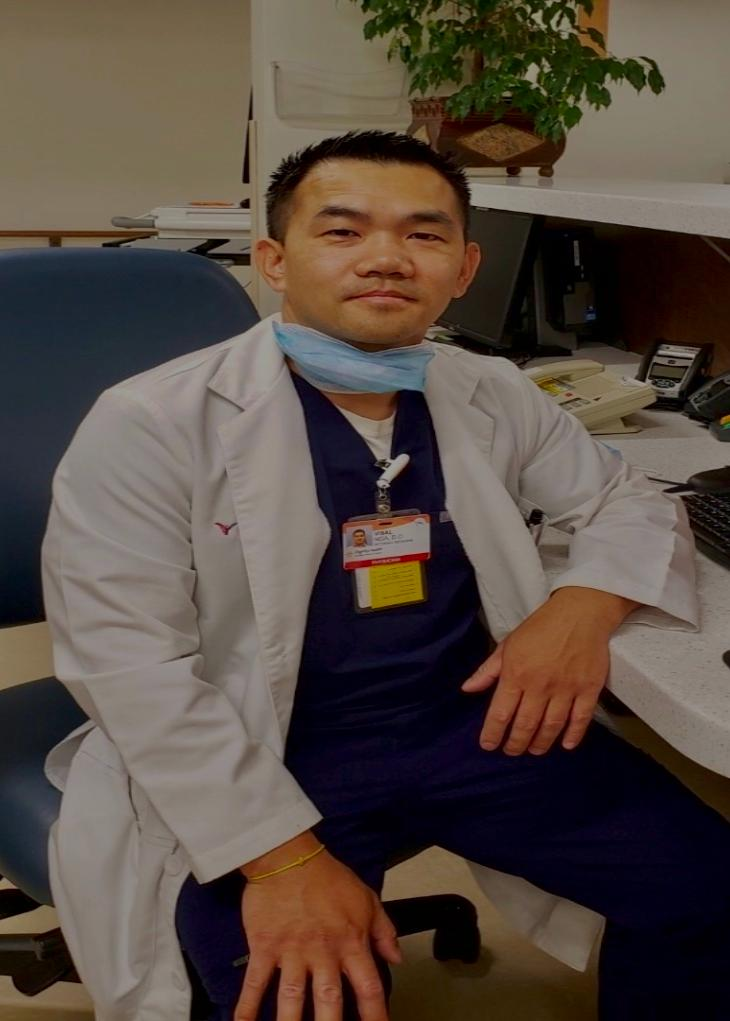mask_weared_incorrect: (254, 130, 476, 366)
